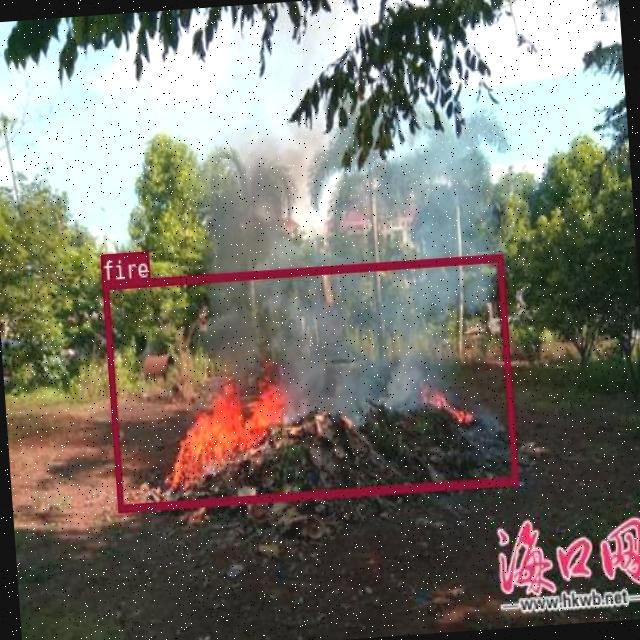fire: (101, 252, 516, 510)
